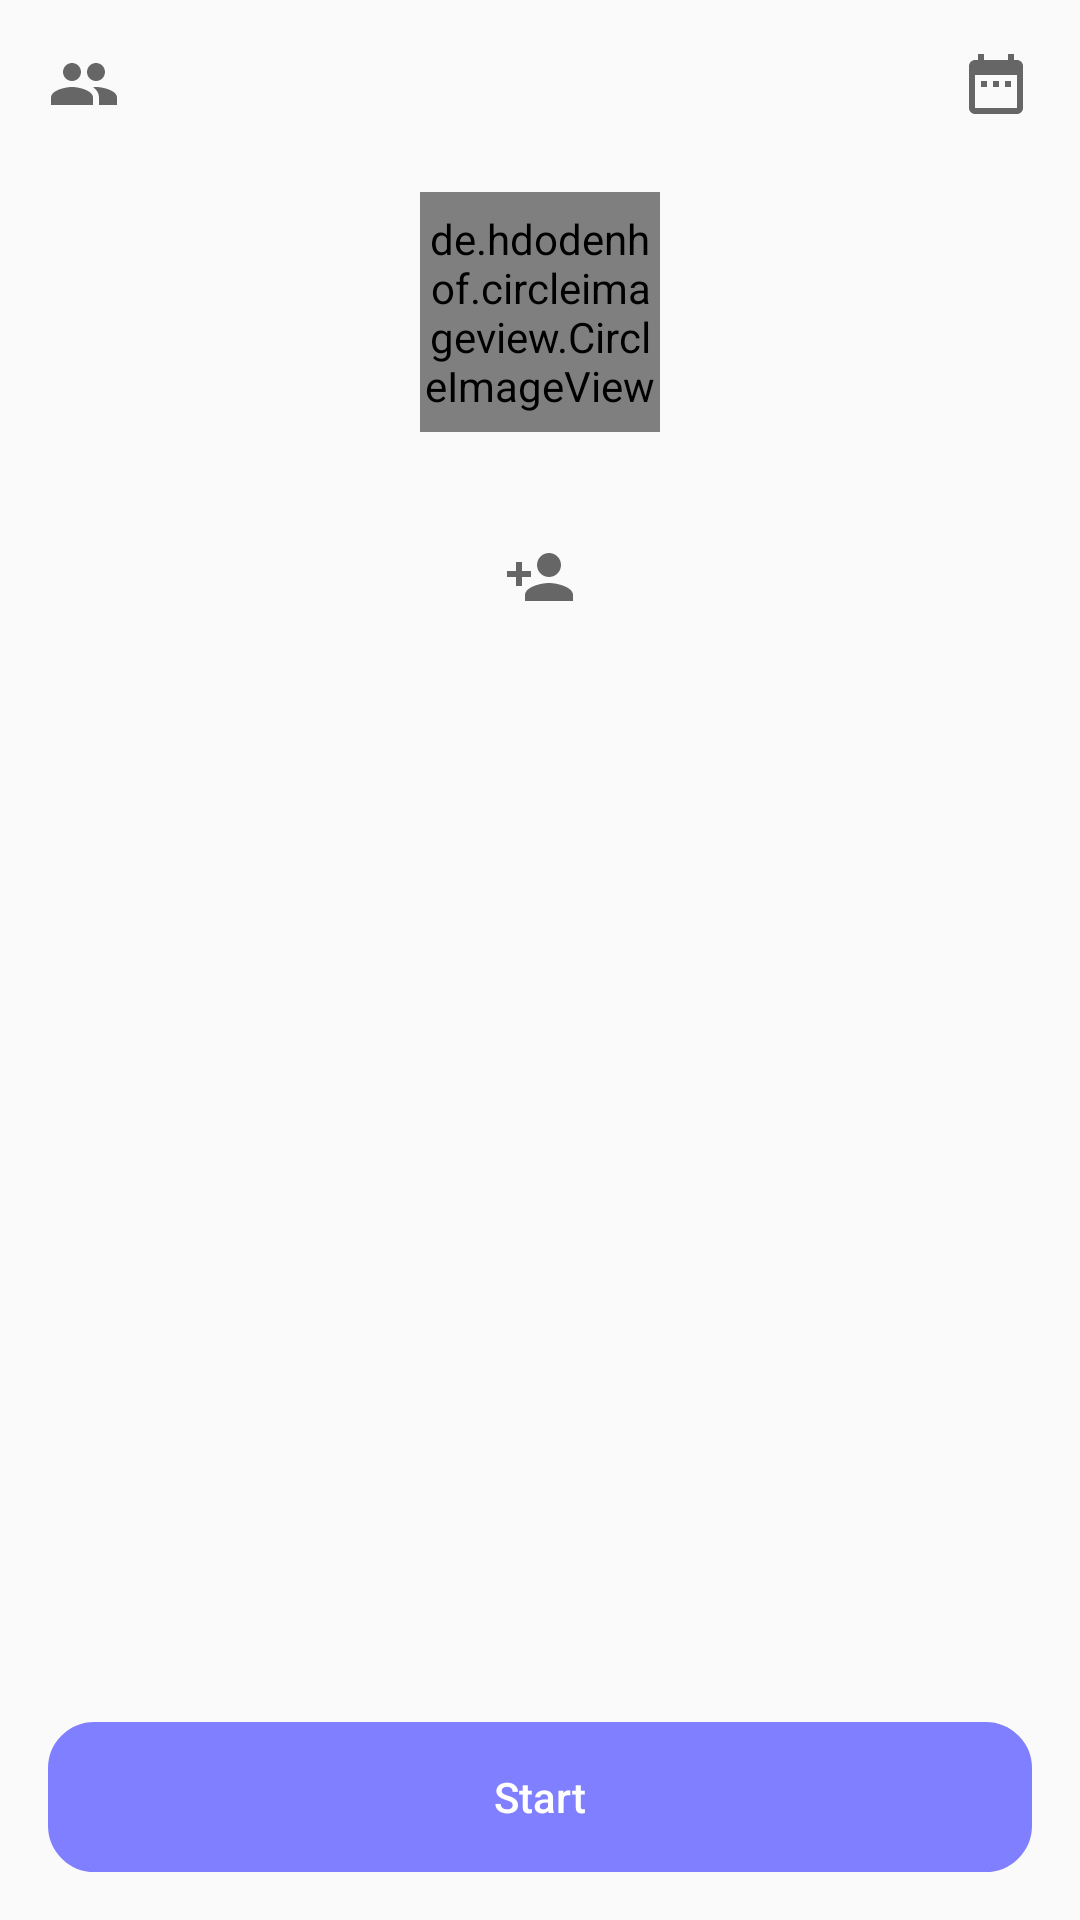

Point at icon controls on the screen. Image size 1080w x 1920h, points as (x=x, y=y).
calendar: (x=996, y=84)
people: (x=84, y=84)
